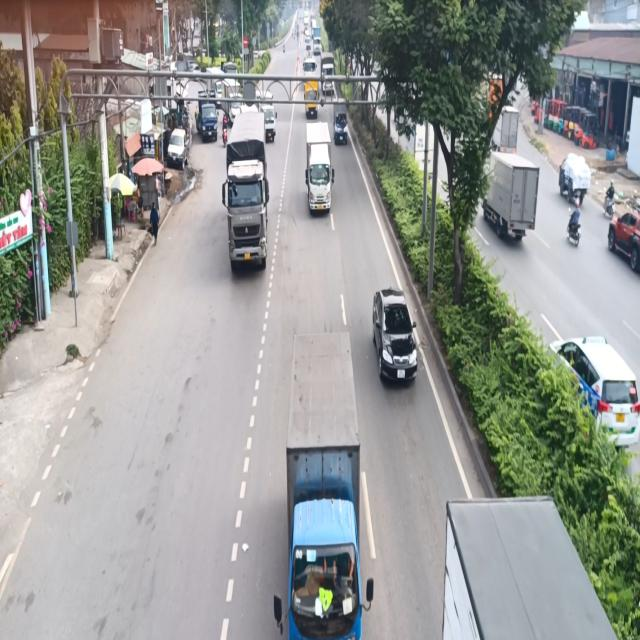car: (371, 289, 423, 397)
truck: (283, 318, 375, 639), (222, 103, 272, 286), (300, 115, 336, 222)
